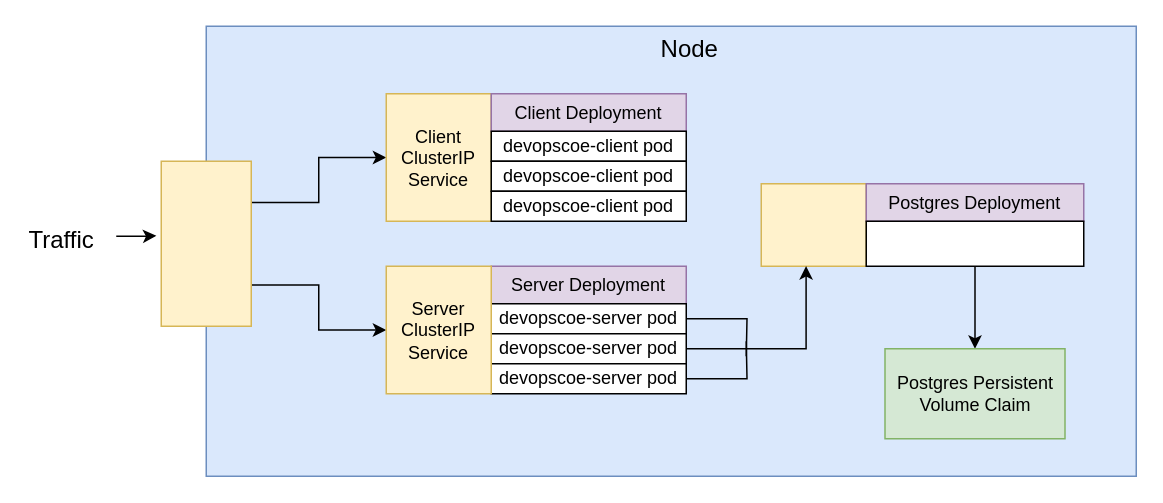
The diagram is 1163 pixels wide and 503 high, and some of its shapes have lost their labels. Here are the shapes that lost their labels. From the top down, the centre of each, then its label:
At (205,243): "Ingress Service".
At (813,224): "Postgres ClusterIP Service".
At (974,243): "devopscoe-postgres pod".
